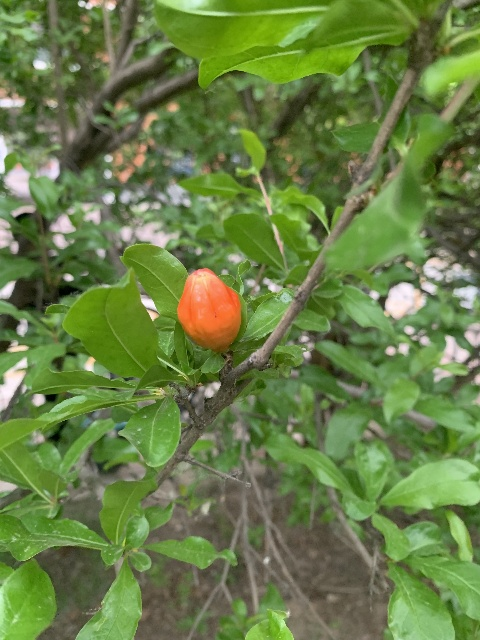bud: (177, 267, 240, 352)
